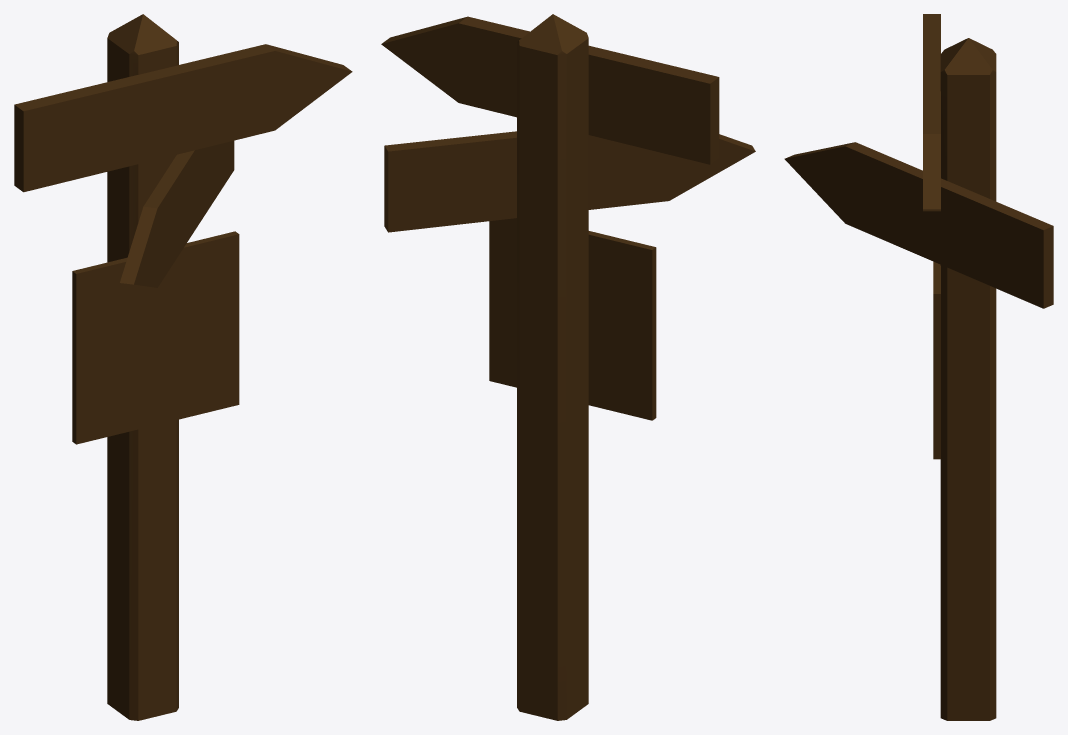
Rendered from DirectionPanel.glb.
The picture shows the model from 3 angles, left to right: view 1: azimuth 30°, elevation 25°; view 2: azimuth 150°, elevation 25°; view 3: azimuth 270°, elevation 25°; orthographic projection. The views are drawn at different scales.
Parts seen in each view (by area): view 1: POTEAU; view 2: POTEAU; view 3: POTEAU.
Boxes of the visible parts, x1,y1,x2,y2 form: POTEAU: [14, 14, 352, 720]; POTEAU: [381, 14, 755, 720]; POTEAU: [784, 14, 1053, 720].
Size of the model in its own units: 0.9958 by 2 by 0.7275.
